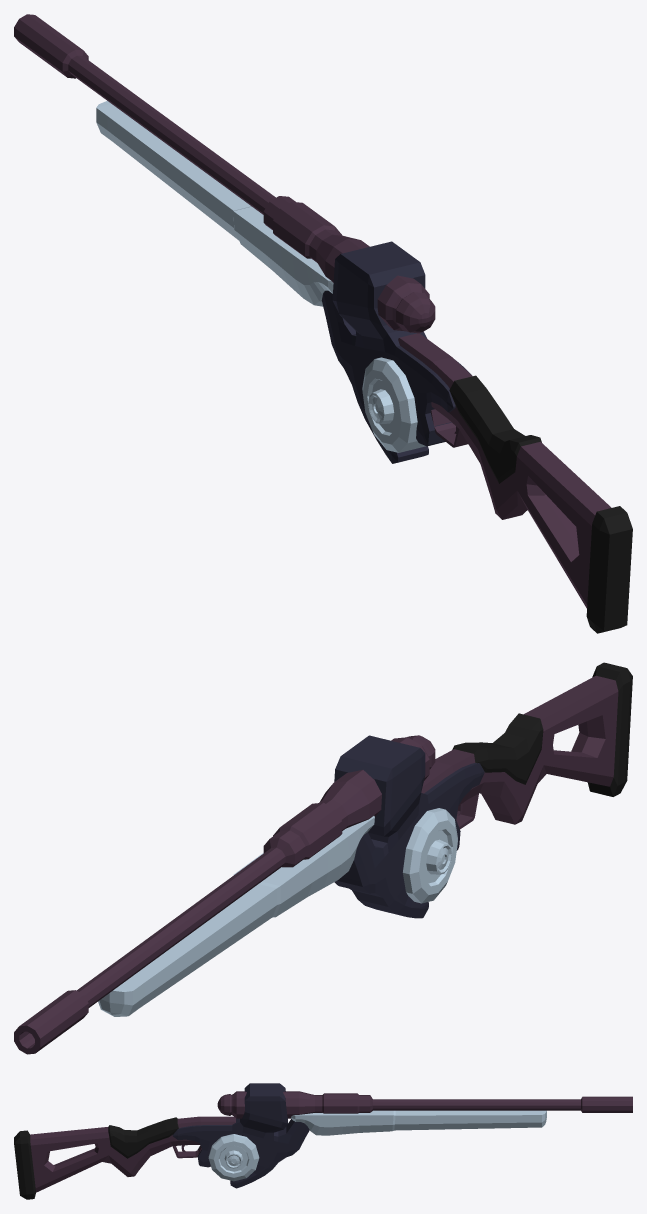
The model's file is sniper.glb.
3 renders of one model, top to bottom at view 1: azimuth 30°, elevation 25°; view 2: azimuth 150°, elevation 25°; view 3: azimuth 270°, elevation 25°, orthographic. The views are drawn at different scales.
Parts seen in each view (by area): view 1: SniperRifle; view 2: SniperRifle; view 3: SniperRifle.
Part boxes in pixels (x1=…): SniperRifle: x1=14, y1=14, x2=632, y2=633; SniperRifle: x1=14, y1=662, x2=632, y2=1054; SniperRifle: x1=14, y1=1083, x2=632, y2=1199.
Size of the model in its own units: 0.7699 by 2.2 by 11.53.
